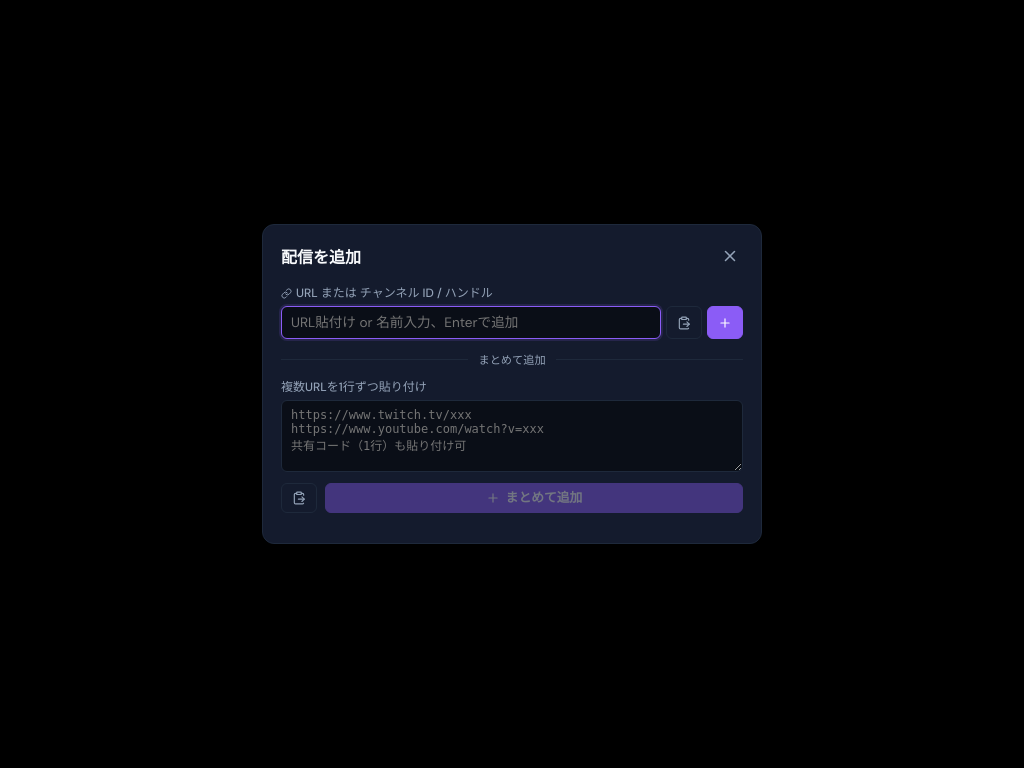
Test: ペーストボタン › 一括入力が空なら貼り付けた内容だけになる
What coordinates should you click on to do the following:
click the button named "クリップボードから貼り付け" below "複数URLを1行ずつ貼り付け"
I would click on:
 (299, 498)
Its box is x1=281 y1=483 x2=317 y2=513.
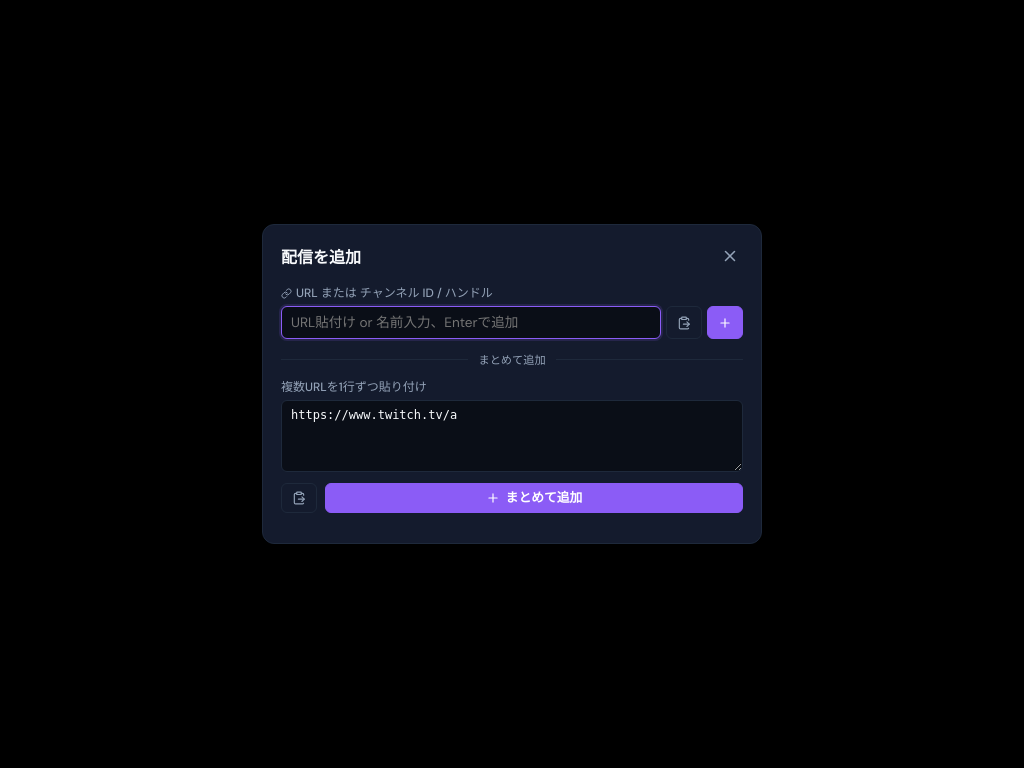
Expected: the text box holds "https://www.twitch.tv/a", x1=281 y1=400 x2=743 y2=472
